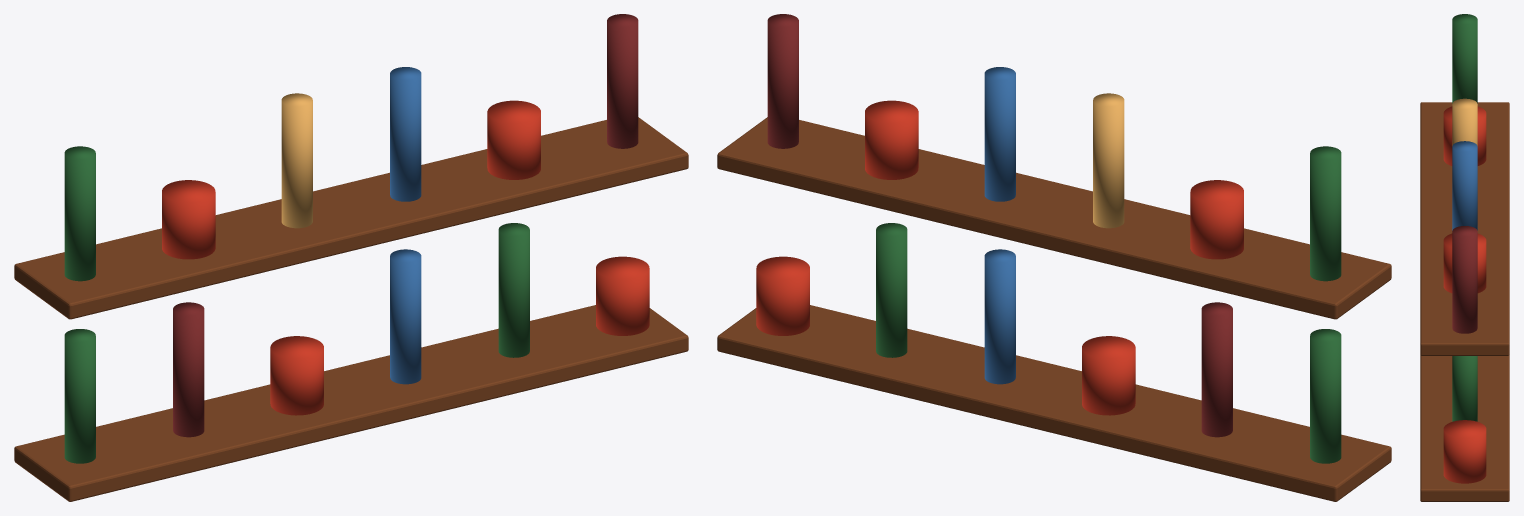
File: regal.glb
3 renders of one model, left to right at view 1: azimuth 30°, elevation 25°; view 2: azimuth 150°, elevation 25°; view 3: azimuth 270°, elevation 25°, orthographic. The views are drawn at different scales.
Parts seen in each view (by area): view 1: Cube, Cube.001, Cylinder.003, Cylinder.001, Cylinder.006, Cylinder.008, Cylinder, Cylinder.004, Cylinder.009, Cylinder.011, Cylinder.007, Cylinder.005 (+2 smaller); view 2: Cube, Cube.001, Cylinder.003, Cylinder.001, Cylinder.006, Cylinder.008, Cylinder, Cylinder.004, Cylinder.009, Cylinder.011, Cylinder.007, Cylinder.005 (+2 smaller); view 3: Cube.001, Cube, Cylinder.011, Cylinder.005, Cylinder.009, Cylinder.006, Cylinder.004, Cylinder.008, Cylinder.010, Cylinder.007.
Part boxes in pixels (left/top/right/bottom): Cube: left=14, top=305, right=688, bottom=501; Cube.001: left=14, top=117, right=688, bottom=319; Cylinder.003: left=390, top=249, right=421, bottom=384; Cylinder.001: left=173, top=302, right=204, bottom=437; Cylinder.006: left=64, top=146, right=95, bottom=281; Cylinder.008: left=281, top=93, right=312, bottom=228; Cylinder: left=64, top=329, right=95, bottom=463; Cylinder.004: left=498, top=223, right=529, bottom=357; Cylinder.009: left=390, top=67, right=421, bottom=201; Cylinder.011: left=607, top=14, right=638, bottom=148; Cylinder.007: left=162, top=180, right=215, bottom=259; Cylinder.005: left=596, top=256, right=649, bottom=335; Cube: left=717, top=305, right=1391, bottom=501; Cube.001: left=717, top=117, right=1391, bottom=319; Cylinder.003: left=984, top=249, right=1015, bottom=384; Cylinder.001: left=1201, top=302, right=1232, bottom=437; Cylinder.006: left=1310, top=146, right=1341, bottom=281; Cylinder.008: left=1093, top=93, right=1124, bottom=228; Cylinder: left=1310, top=329, right=1341, bottom=463; Cylinder.004: left=876, top=223, right=907, bottom=357; Cylinder.009: left=984, top=67, right=1015, bottom=201; Cylinder.011: left=767, top=14, right=798, bottom=148; Cylinder.007: left=1190, top=180, right=1243, bottom=259; Cylinder.005: left=756, top=256, right=809, bottom=335; Cube.001: left=1420, top=102, right=1509, bottom=355; Cube: left=1420, top=355, right=1509, bottom=501; Cylinder.011: left=1452, top=226, right=1477, bottom=333; Cylinder.005: left=1443, top=420, right=1486, bottom=483; Cylinder.009: left=1452, top=141, right=1477, bottom=230; Cylinder.006: left=1452, top=14, right=1477, bottom=103; Cylinder.004: left=1452, top=356, right=1477, bottom=421; Cylinder.008: left=1452, top=98, right=1477, bottom=145; Cylinder.010: left=1443, top=233, right=1486, bottom=293; Cylinder.007: left=1443, top=106, right=1486, bottom=165.
Bounding box in the file's own units: 1.6 × 0.79 × 0.25.
